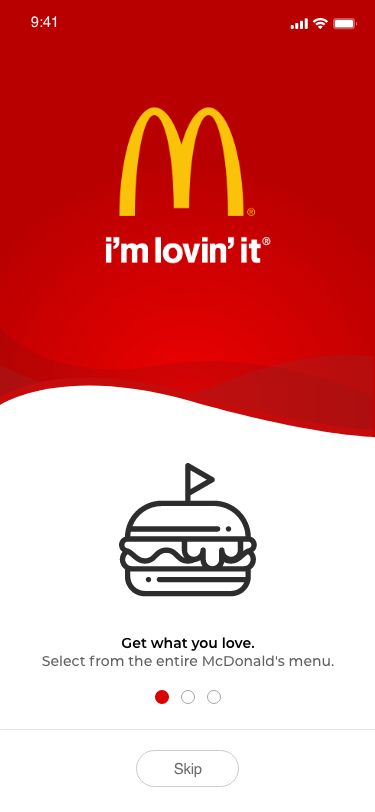Image: (106, 107, 271, 264), (119, 462, 258, 597)
PageIndicator: (154, 689, 223, 705)
Text: (42, 655, 334, 667), (122, 637, 255, 652)
TextButton: (136, 749, 240, 787)
UpperTaskBar: (31, 16, 358, 32)
